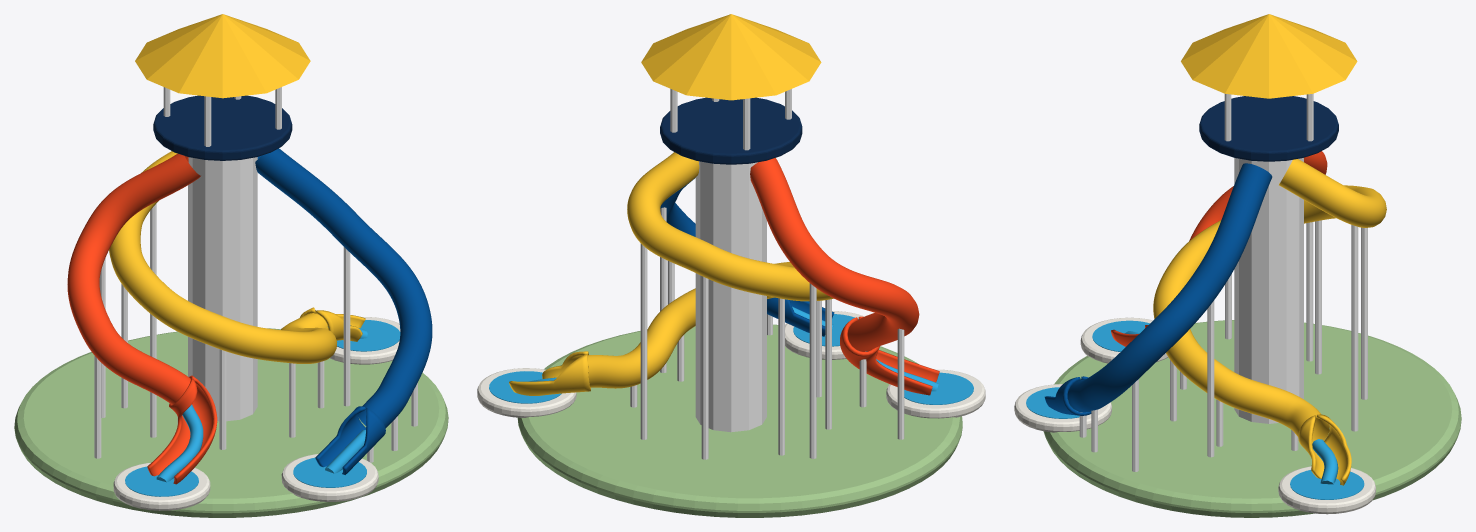
File: 03-slide-tower.glb
3 views of the same model, side by side, from view 1: azimuth 30°, elevation 25°; view 2: azimuth 150°, elevation 25°; view 3: azimuth 270°, elevation 25° (orthographic). The views are drawn at different scales.
Visible parts, largest first — view 1: Base.002, Tower, Blue Slide, Red Slide, Roof, Yellow Slide, Deck, Red Slide Runout, Blue Slide Runout, Splash Deck, Splash Deck.002, Splash.002 (+13 smaller); view 2: Base.002, Tower, Yellow Slide, Roof, Red Slide, Deck, Red Slide Runout, Yellow Slide Runout, Splash Deck.001, Splash Deck, Support.003, Support.004 (+11 smaller); view 3: Base.002, Tower, Yellow Slide, Roof, Blue Slide, Deck, Splash Deck.001, Yellow Slide Runout, Support.003, Splash Deck.002, Splash.001, Support.011 (+10 smaller).
Part boxes in pixels (bbox=[...]): Base.002: bbox=[14, 328, 448, 517]; Tower: bbox=[188, 157, 257, 421]; Blue Slide: bbox=[255, 148, 432, 428]; Red Slide: bbox=[67, 153, 200, 404]; Roof: bbox=[135, 14, 310, 98]; Yellow Slide: bbox=[109, 151, 337, 363]; Deck: bbox=[153, 95, 292, 160]; Red Slide Runout: bbox=[147, 375, 217, 484]; Blue Slide Runout: bbox=[315, 406, 385, 474]; Splash Deck: bbox=[113, 462, 210, 510]; Splash Deck.002: bbox=[281, 454, 378, 501]; Splash.002: bbox=[293, 457, 366, 487]; Base.002: bbox=[517, 324, 962, 517]; Tower: bbox=[695, 161, 766, 432]; Yellow Slide: bbox=[588, 152, 833, 388]; Roof: bbox=[641, 14, 821, 100]; Red Slide: bbox=[750, 158, 919, 351]; Deck: bbox=[660, 97, 802, 164]; Red Slide Runout: bbox=[840, 316, 939, 395]; Yellow Slide Runout: bbox=[509, 351, 590, 395]; Splash Deck.001: bbox=[477, 368, 576, 417]; Splash Deck: bbox=[886, 369, 985, 418]; Support.003: bbox=[640, 243, 647, 439]; Support.004: bbox=[701, 276, 708, 459]; Base.002: bbox=[1043, 320, 1461, 517]; Tower: bbox=[1234, 158, 1303, 423]; Yellow Slide: bbox=[1153, 159, 1386, 443]; Roof: bbox=[1181, 14, 1357, 98]; Blue Slide: bbox=[1067, 163, 1272, 412]; Deck: bbox=[1199, 96, 1338, 161]; Splash Deck.001: bbox=[1278, 466, 1375, 514]; Yellow Slide Runout: bbox=[1298, 414, 1351, 485]; Support.003: bbox=[1351, 225, 1358, 431]; Splash Deck.002: bbox=[1014, 384, 1111, 432]; Splash.001: bbox=[1290, 470, 1364, 499]; Support.011: bbox=[1207, 300, 1214, 457].
Bounding box in the file's own units: 4.02 × 3.93 × 3.84.
